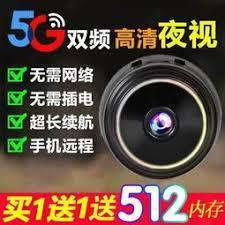maru: (99, 57, 225, 181)
